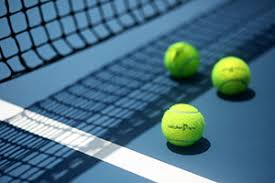tennis_ball: (161, 103, 205, 148), (211, 56, 251, 96), (163, 41, 199, 78)
